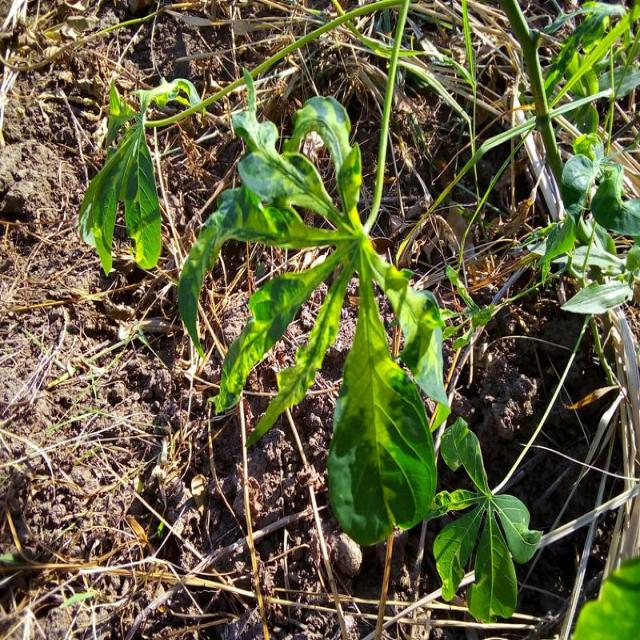cassava leaf: (178, 82, 450, 545), (432, 415, 544, 623)
